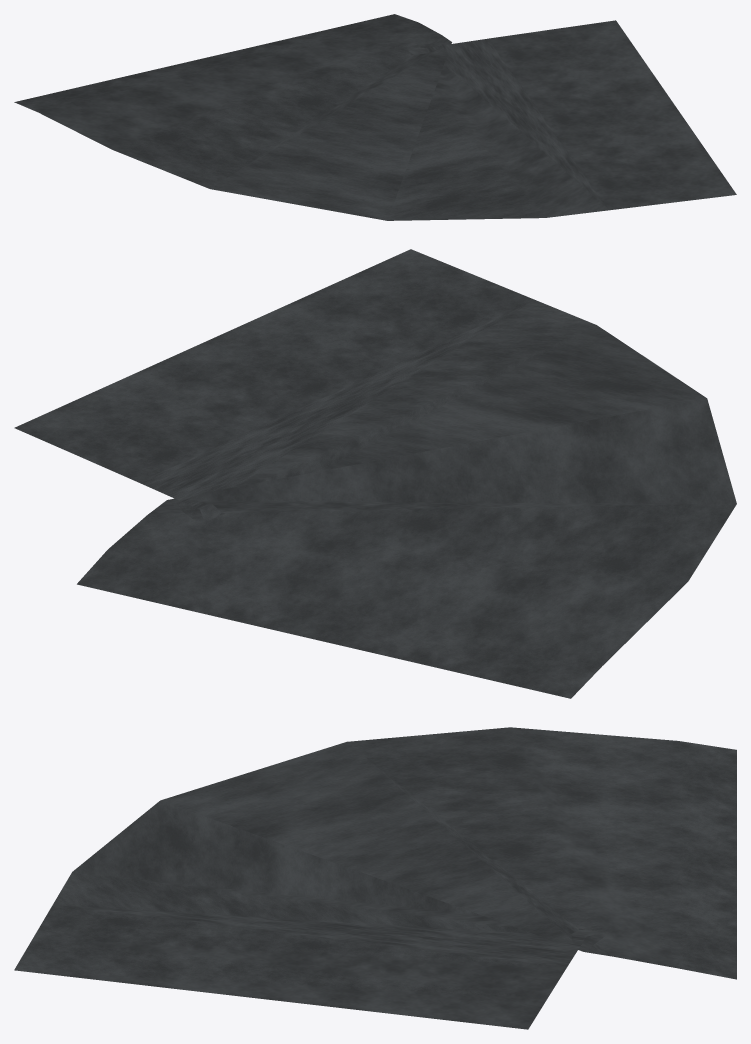
Rendered from RD-ROAD-027.obj.
3 renders of one model, top to bottom at view 1: azimuth 30°, elevation 25°; view 2: azimuth 150°, elevation 25°; view 3: azimuth 270°, elevation 25°, orthographic. The views are drawn at different scales.
Parts seen in each view (by area): view 1: RD-ROAD-027; view 2: RD-ROAD-027; view 3: RD-ROAD-027.
Boxes of the visible parts, bbox=[...] form: RD-ROAD-027: bbox=[14, 14, 736, 220]; RD-ROAD-027: bbox=[14, 249, 736, 698]; RD-ROAD-027: bbox=[14, 727, 736, 1029].
Bounding box in the file's own units: 10.83 × 0.5687 × 10.91.
Materials: 1 (1 with a texture image).
